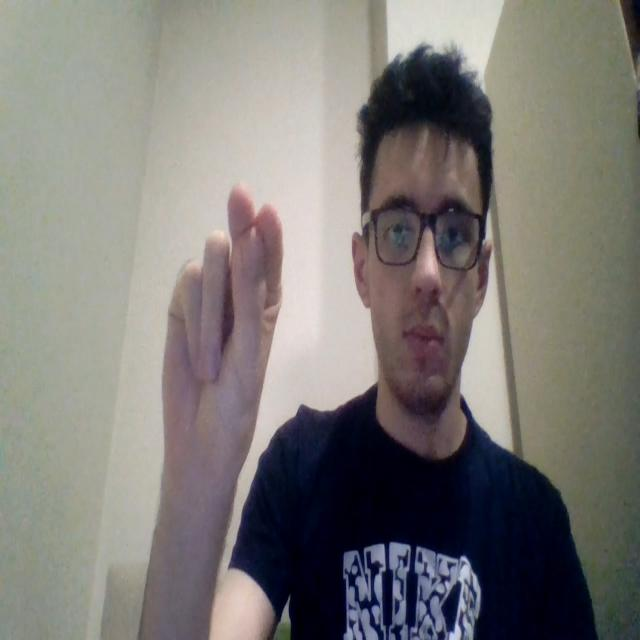no: (160, 181, 284, 498)
